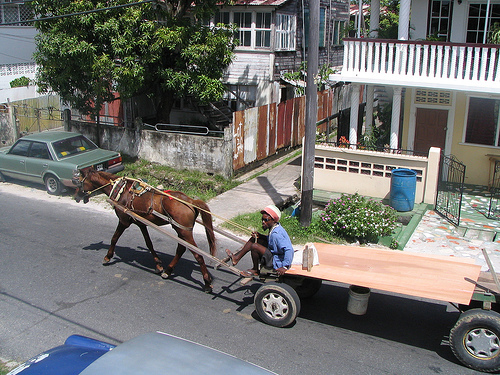horse: (74, 167, 217, 294)
